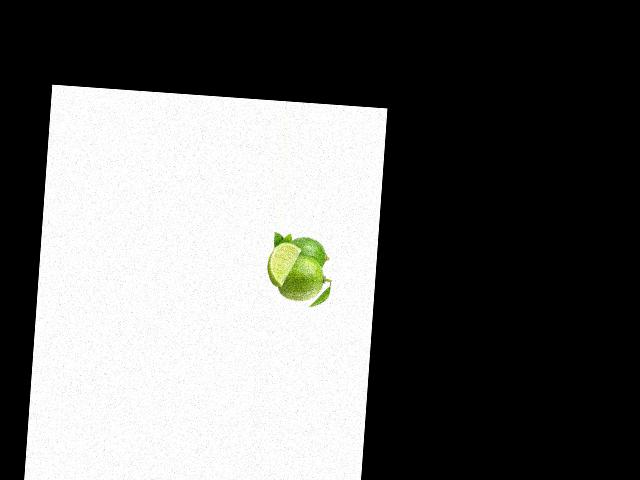lemon: (278, 255, 327, 303)
